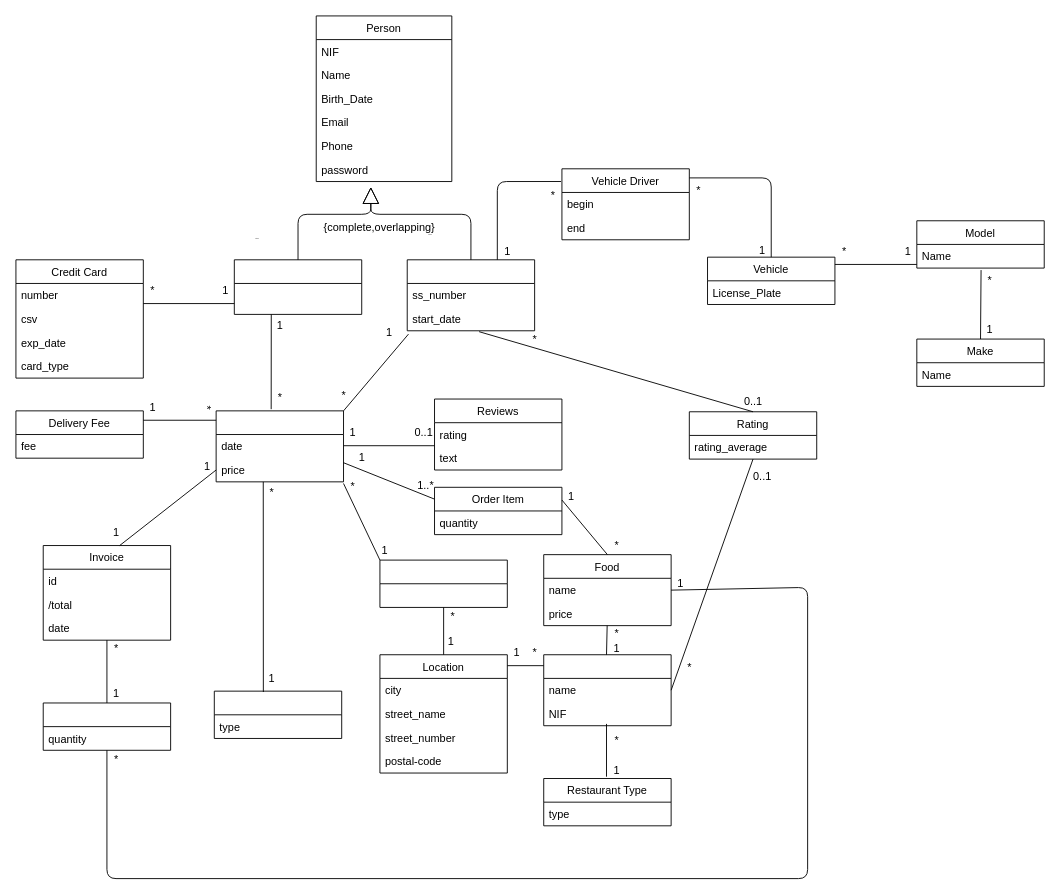
Image size: 1060x895. Some labels were removed from this diagram. The box of each missing label's shape, as (x1, y1, x2, y2) in pixels:
Customer: (233, 259, 362, 314)
Delivery Location: (379, 559, 507, 607)
Driver: (406, 259, 535, 331)
Invoice Line: (42, 702, 171, 750)
Order: (215, 410, 344, 482)
Payment Type: (213, 690, 342, 738)
Restaurant: (543, 654, 671, 726)
